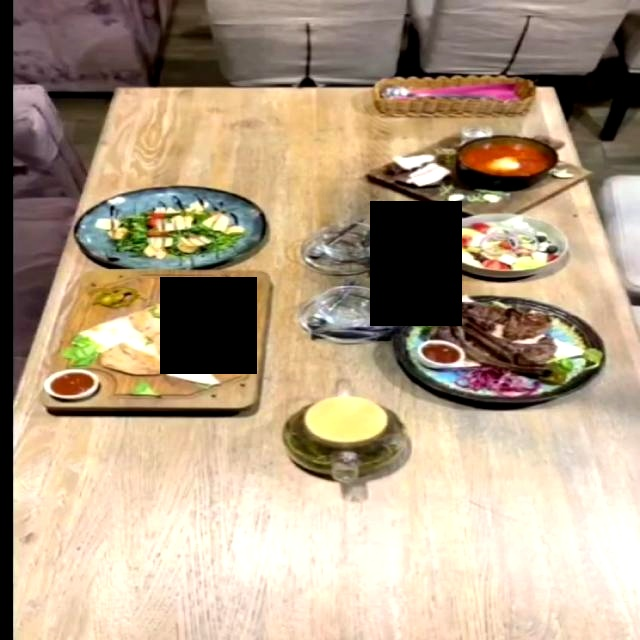meat: (36, 269, 279, 418), (393, 294, 608, 404)
salad: (71, 184, 263, 267), (462, 211, 572, 276)
soup: (385, 131, 574, 207)
tea: (280, 395, 409, 479)
